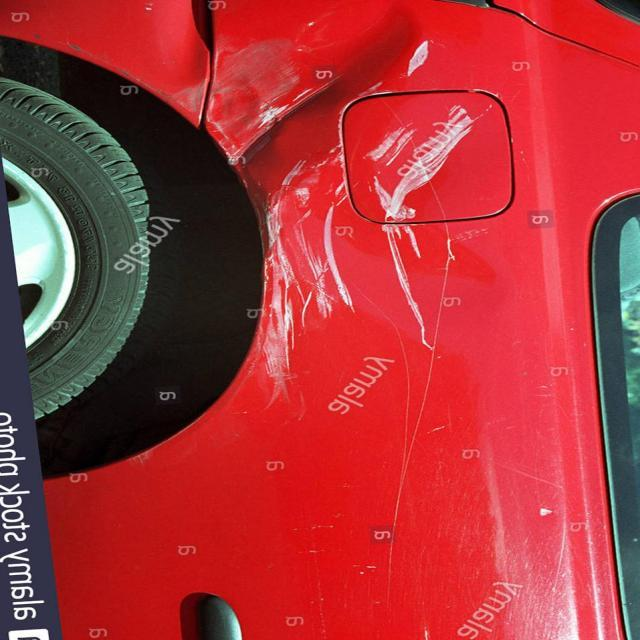scratch: (208, 21, 502, 410)
